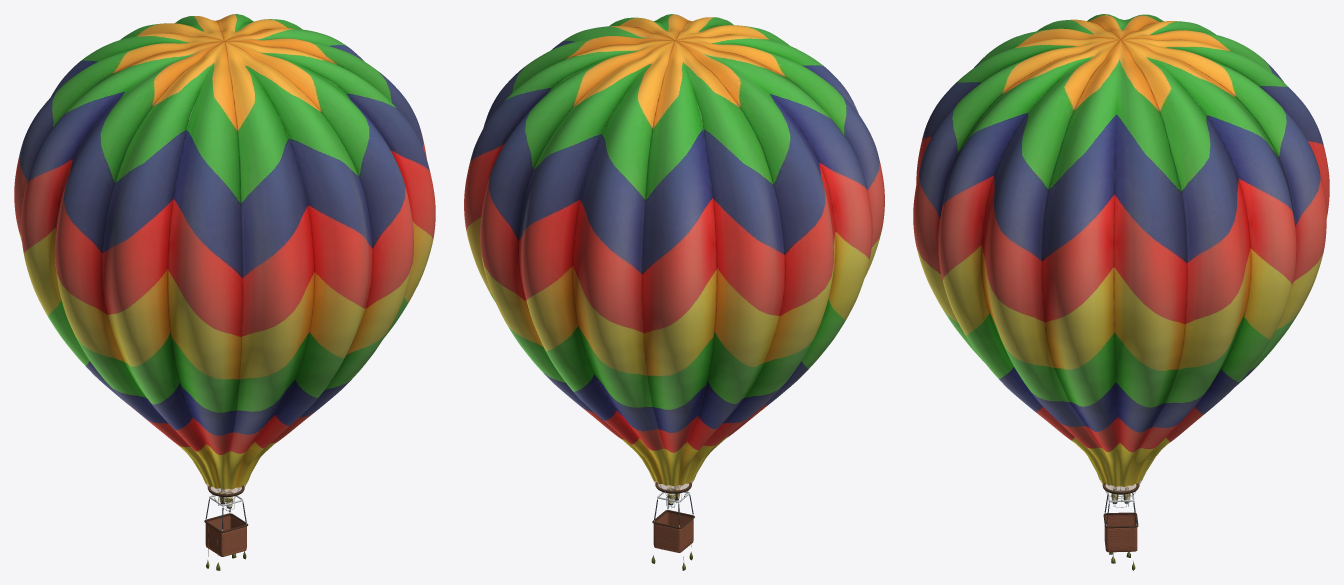
Rendered from bestBalloon (1).glb.
3 views of the same model, side by side, from view 1: azimuth 30°, elevation 25°; view 2: azimuth 150°, elevation 25°; view 3: azimuth 270°, elevation 25° (orthographic).
Parts seen in each view (by area): view 1: Balloon_Parent, basket; view 2: Balloon_Parent, basket; view 3: Balloon_Parent, basket.
Part boxes in pixels (x1,y1,x2,y2): Balloon_Parent: (14, 14, 435, 489); basket: (205, 515, 246, 556); Balloon_Parent: (464, 14, 884, 486); basket: (653, 512, 693, 552); Balloon_Parent: (913, 14, 1329, 486); basket: (1104, 514, 1137, 552).
Bounding box in the file's own units: 1.75 × 2.43 × 1.75.
Materials: 10 (10 with a texture image).
